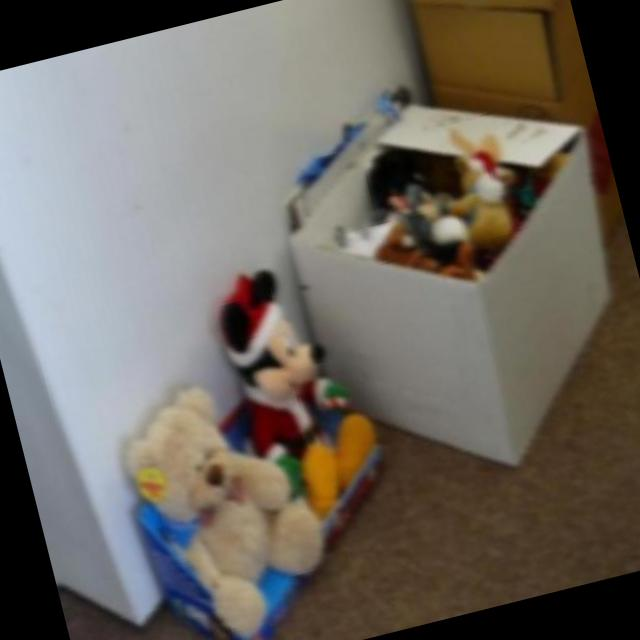box: (235, 74, 640, 523)
